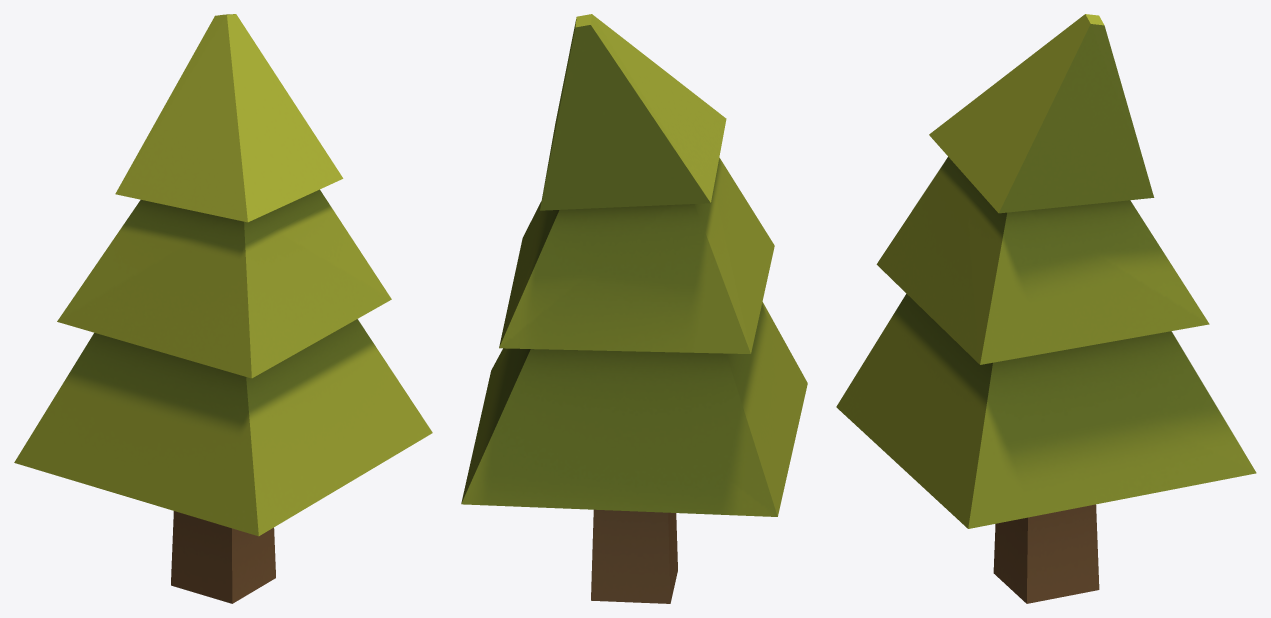
Rendered from PUSHILIN_pine_tree.obj.
The picture shows the model from 3 angles, left to right: view 1: azimuth 30°, elevation 25°; view 2: azimuth 150°, elevation 25°; view 3: azimuth 270°, elevation 25°; orthographic projection. The views are drawn at different scales.
Parts seen in each view (by area): view 1: pine_tree; view 2: pine_tree; view 3: pine_tree.
Boxes of the visible parts, x1,y1,x2,y2 form: pine_tree: [14, 14, 432, 603]; pine_tree: [461, 14, 807, 603]; pine_tree: [836, 14, 1256, 603].
Bounding box in the file's own units: 1.23 × 1.86 × 1.23.
Materials: 1 (1 with a texture image).
